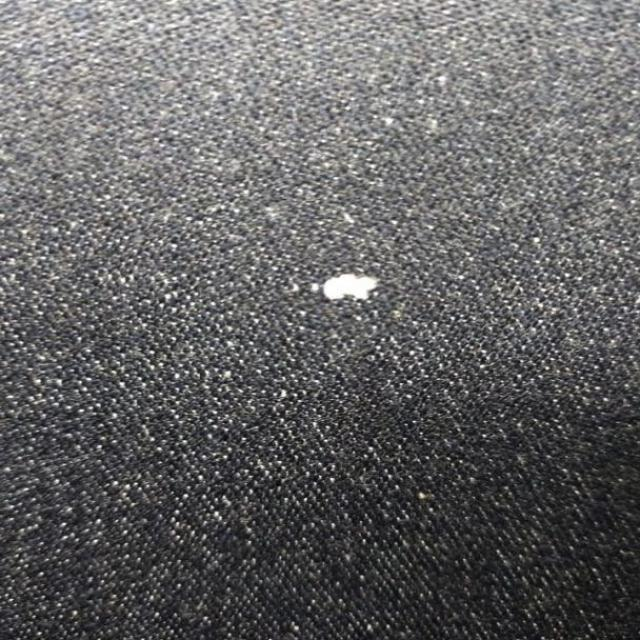Knot: (323, 275, 378, 300)
